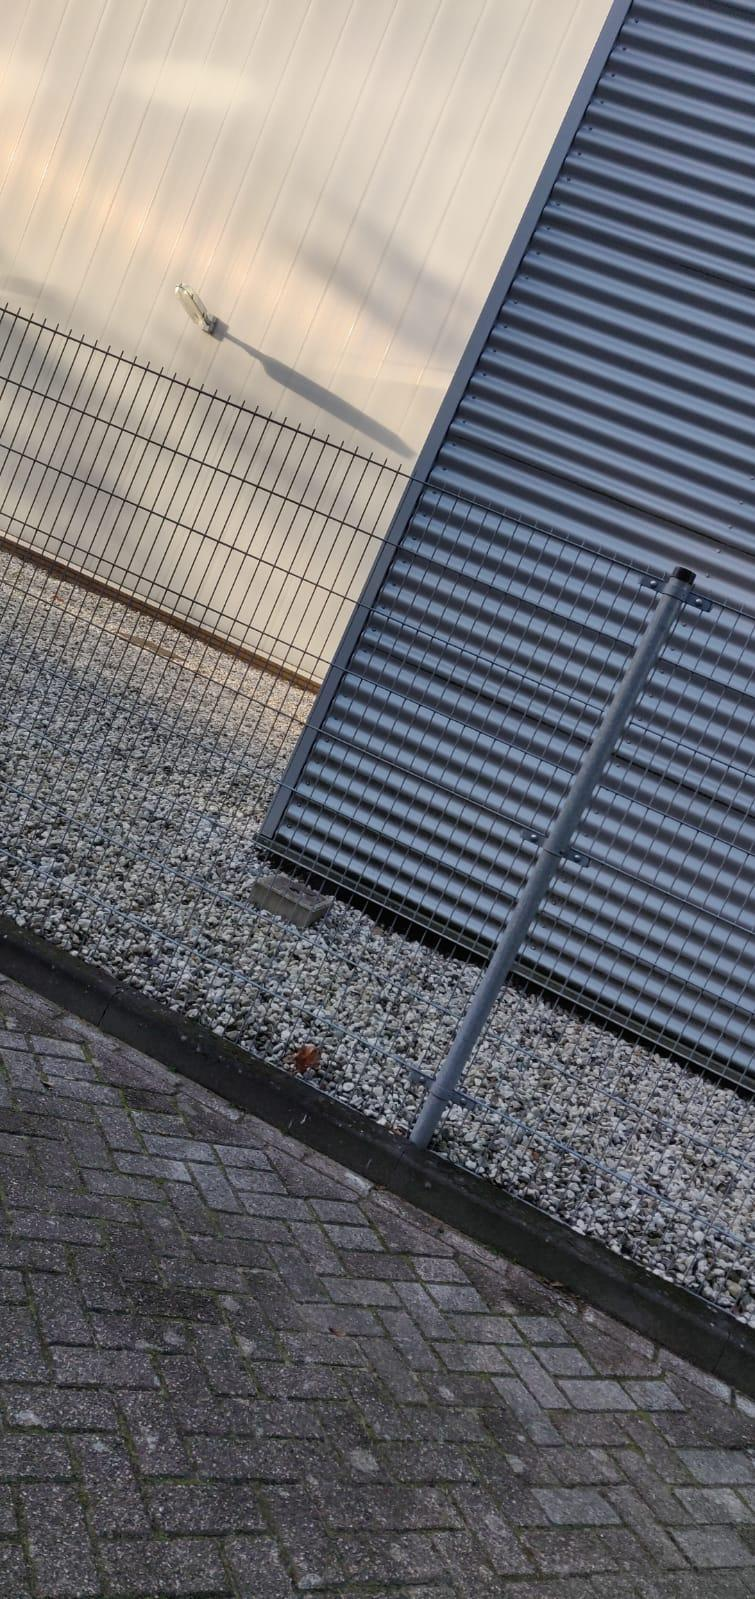obstacle: (0, 204, 755, 1581)
